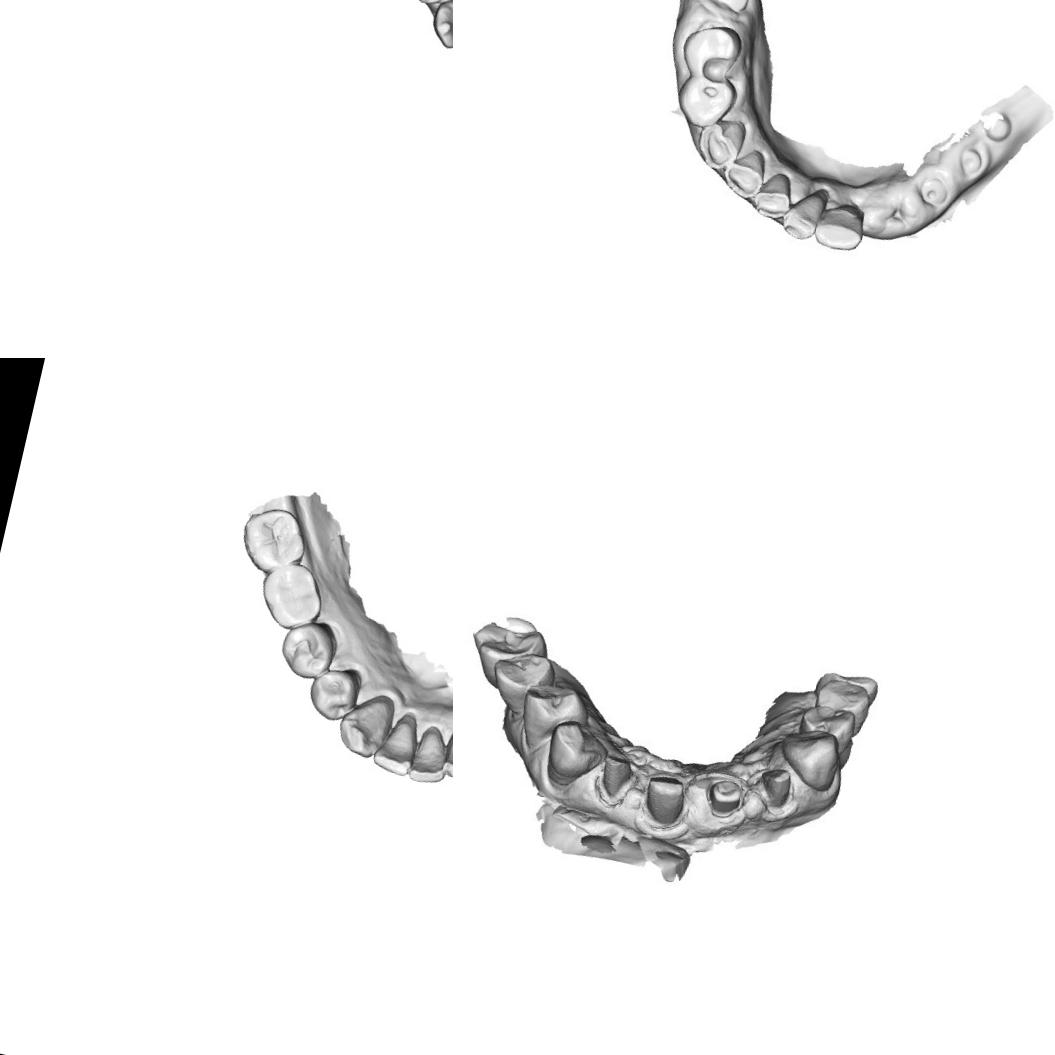canine: (539, 716, 613, 796), (770, 720, 846, 794), (332, 688, 398, 763), (425, 0, 453, 51)
crown: (638, 769, 693, 831), (751, 762, 798, 818), (595, 751, 636, 804)
implant: (702, 774, 748, 821), (915, 171, 953, 212), (951, 143, 990, 179), (698, 0, 758, 22)
incisor: (692, 115, 750, 176), (369, 713, 422, 778), (405, 726, 453, 789), (816, 196, 868, 253), (785, 185, 827, 240), (751, 170, 797, 219), (725, 146, 766, 196), (439, 722, 453, 784)
molar: (232, 500, 314, 582), (251, 555, 333, 637), (467, 618, 553, 677)
premolar: (514, 677, 594, 759), (484, 643, 560, 722), (272, 614, 342, 686), (808, 676, 874, 739), (676, 70, 742, 132), (302, 662, 364, 726), (681, 21, 745, 82), (793, 699, 859, 758)
